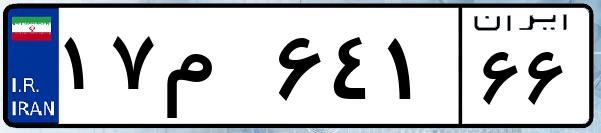1: (385, 28, 445, 110), (57, 26, 110, 100)
4: (330, 28, 385, 110)
6: (270, 28, 330, 110), (475, 38, 525, 113), (525, 38, 570, 115)
7: (110, 28, 158, 98)
م: (158, 20, 270, 120)
